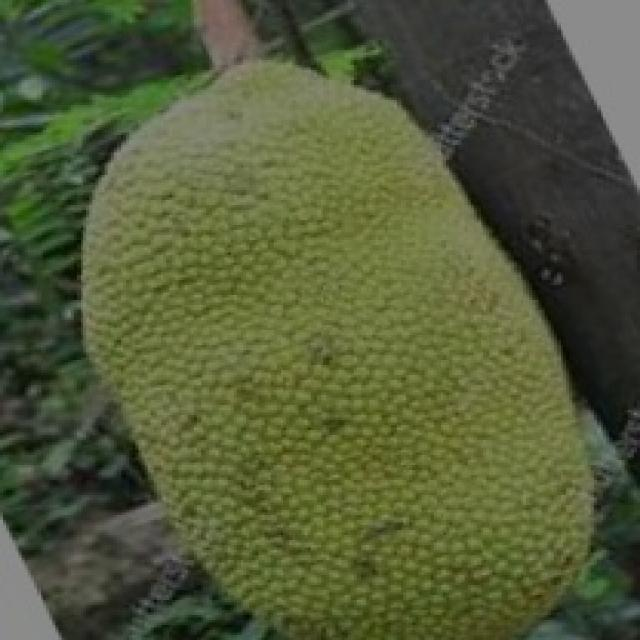Fruit: (231, 8, 631, 390), (268, 270, 637, 640)
